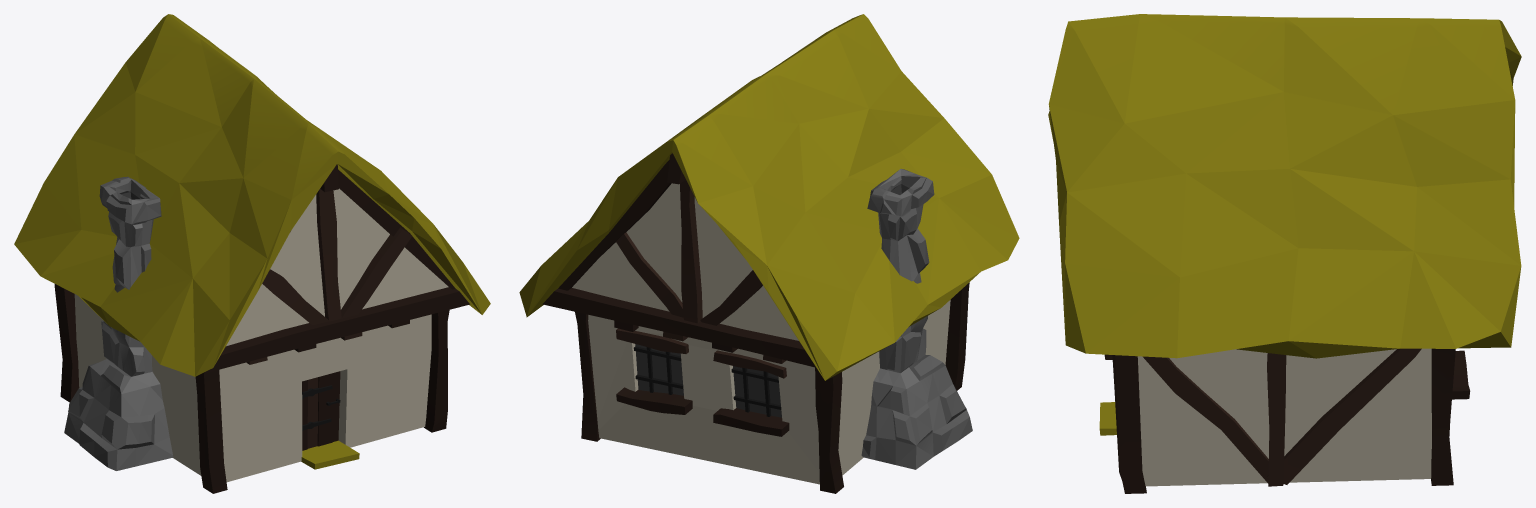
The model's file is Building03.fbx.
The picture shows the model from 3 angles, left to right: view 1: azimuth 30°, elevation 25°; view 2: azimuth 150°, elevation 25°; view 3: azimuth 270°, elevation 25°; orthographic projection. The views are drawn at different scales.
Parts seen in each view (by area): view 1: BuildingHouse04; view 2: BuildingHouse04; view 3: BuildingHouse04.
Part boxes in pixels (bbox=[...]): BuildingHouse04: bbox=[14, 14, 490, 493]; BuildingHouse04: bbox=[519, 14, 1019, 493]; BuildingHouse04: bbox=[1048, 14, 1521, 493].
Bounding box in the file's own units: 2.31 × 2.17 × 2.32.
